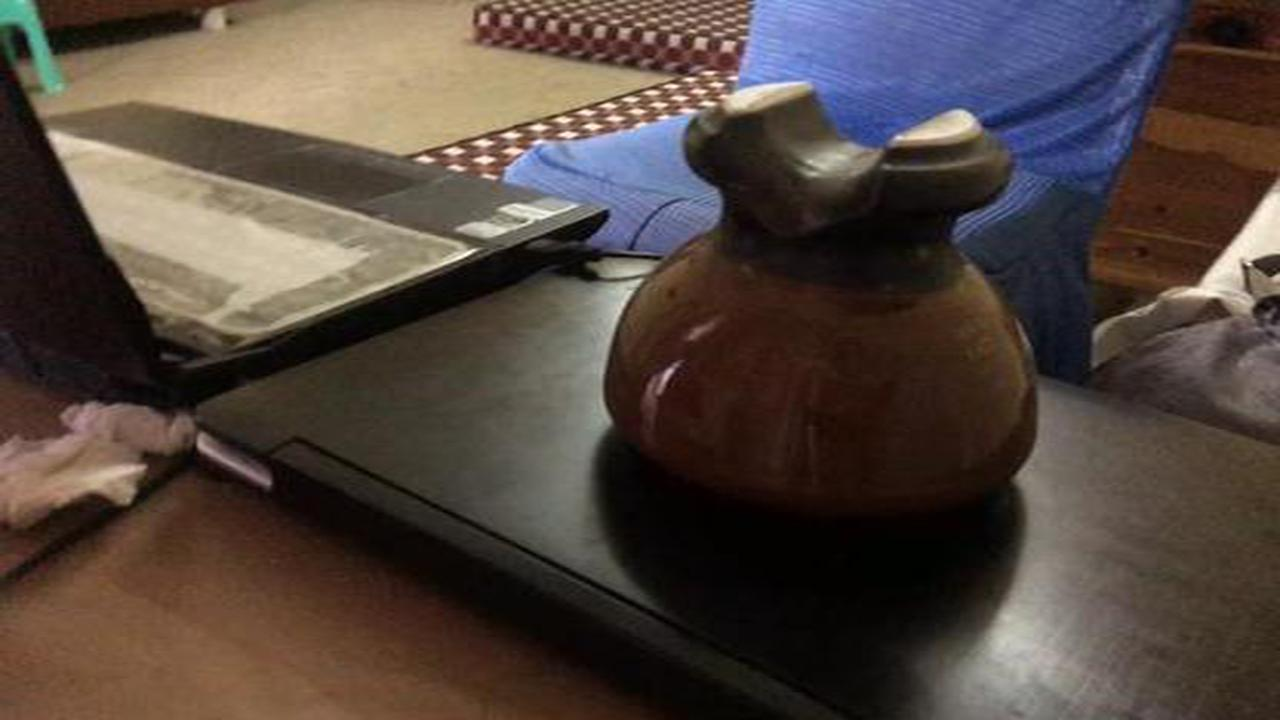insulator_pin: (582, 63, 1062, 537)
